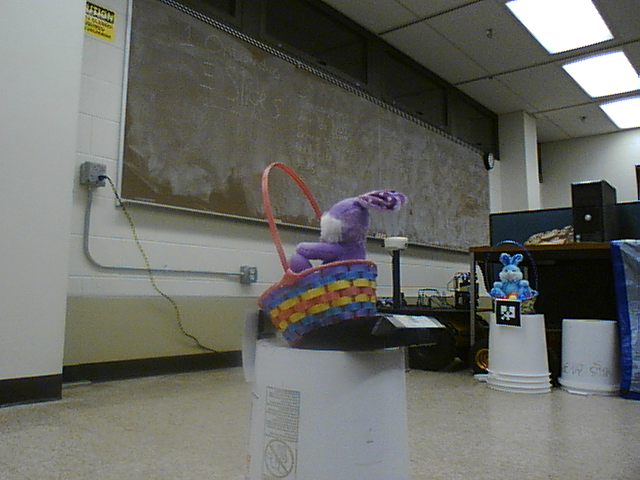bunny: (252, 156, 409, 345), (478, 237, 542, 316)
